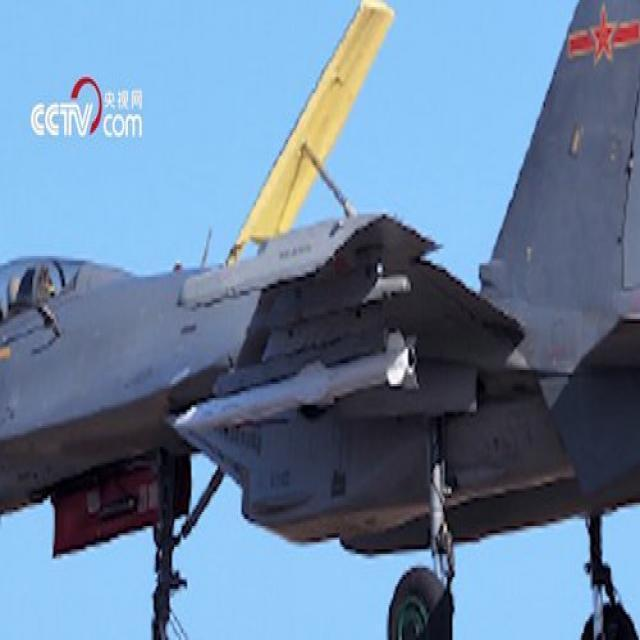Missile: (156, 328, 432, 437)
